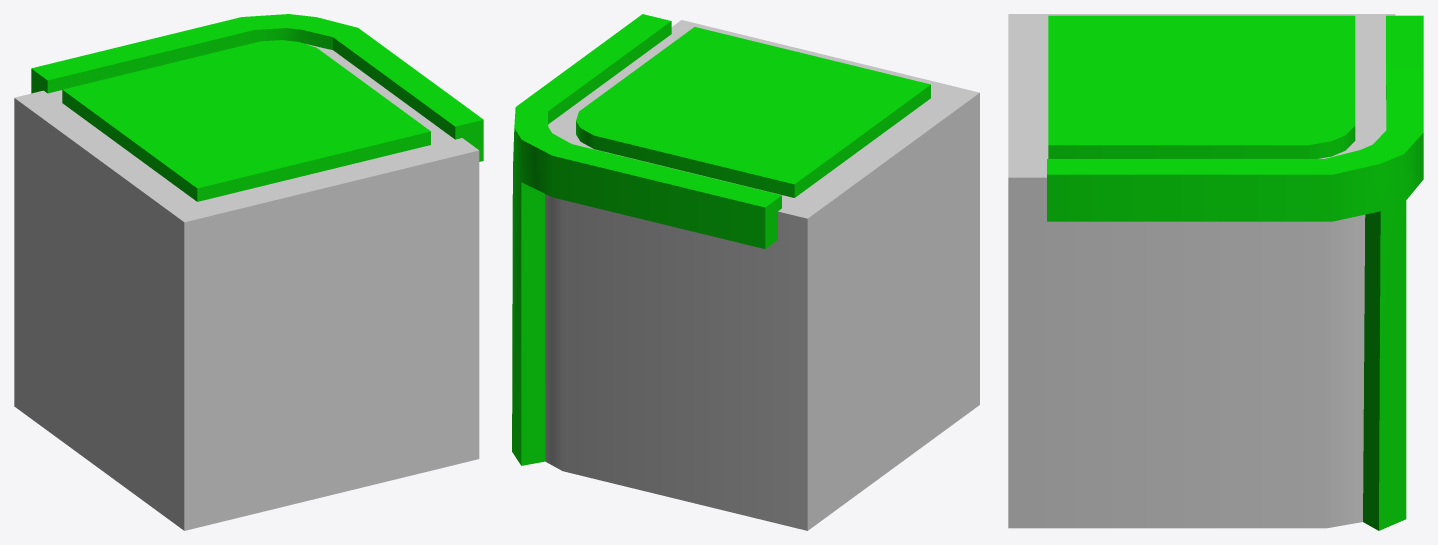
The model's file is 1SideNormalTileHight.fbx.
3 views of the same model, side by side, from view 1: azimuth 30°, elevation 25°; view 2: azimuth 150°, elevation 25°; view 3: azimuth 270°, elevation 25° (orthographic). The views are drawn at different scales.
Visible parts, largest first — view 1: 1SideNormalTileHight; view 2: 1SideNormalTileHight; view 3: 1SideNormalTileHight.
Boxes of the visible parts, box(x1,y1,x2,y2) form: 1SideNormalTileHight: box(14, 14, 483, 530); 1SideNormalTileHight: box(512, 14, 979, 530); 1SideNormalTileHight: box(1008, 14, 1423, 530).
Bounding box in the file's own units: 107 × 104 × 107.
